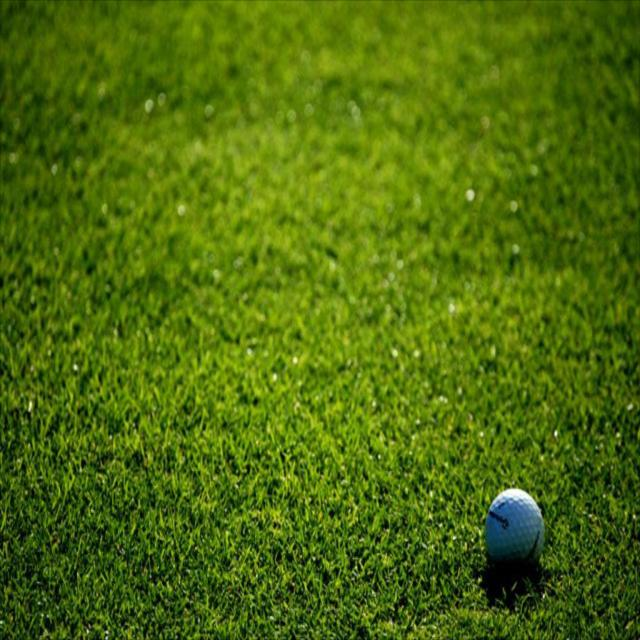Ball: (486, 488, 544, 580)
